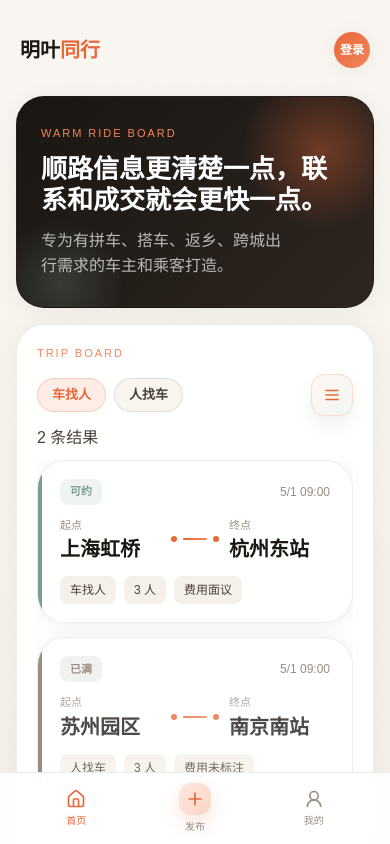
Test case: keeps filter drawer available when rendered inside app layout with bottom tab bar
Expected: the navigation bar named "底部导航" is shown, [0, 772, 389, 843]
Click the button named "打开筛选抽屉" at (332, 395), box [311, 374, 353, 416]
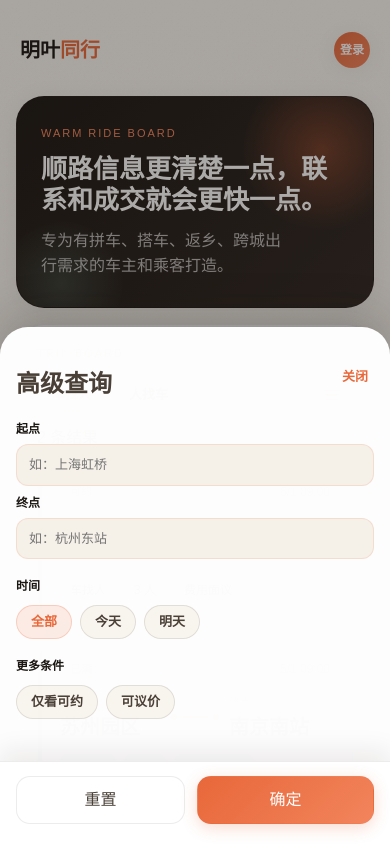
Expected: the button "确定" is shown, [197, 776, 374, 824]
Expected: the button "重置" is shown, [16, 776, 185, 824]
